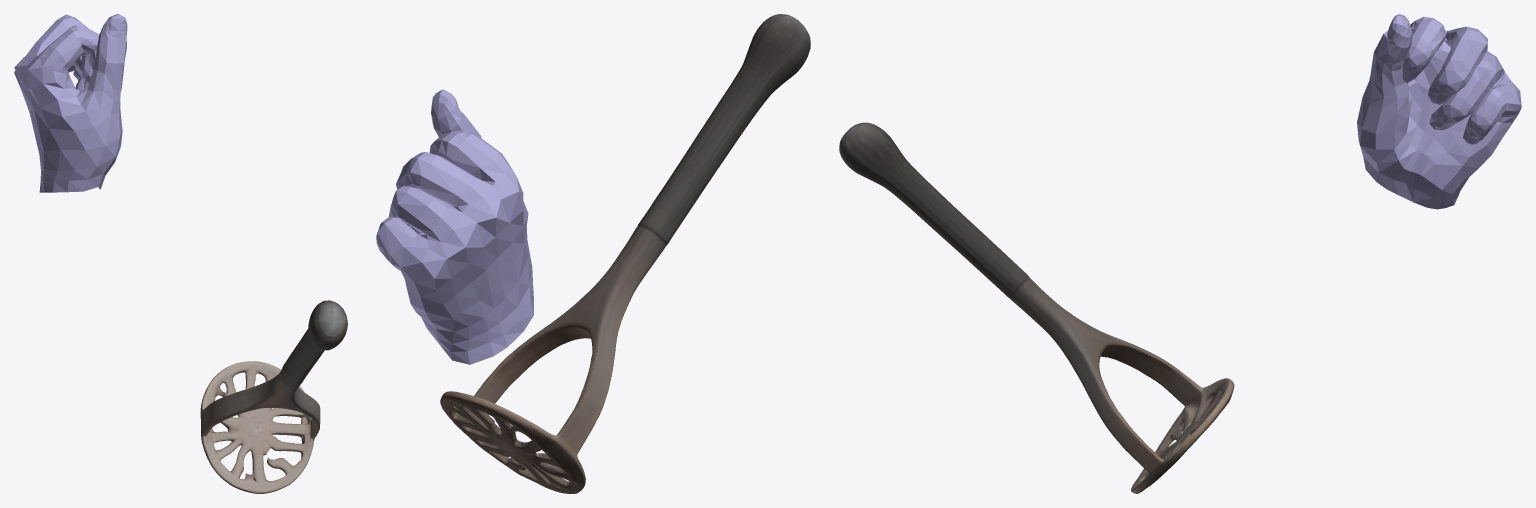
File: frame_0036_source_000036_hand_object.glb
The picture shows the model from 3 angles, left to right: view 1: azimuth 30°, elevation 25°; view 2: azimuth 150°, elevation 25°; view 3: azimuth 270°, elevation 25°; orthographic projection. The views are drawn at different scales.
Parts seen in each view (by area): view 1: world; view 2: world; view 3: world.
Boxes of the visible parts, x1,y1,x2,y2 form: world: (14,14,347,493); world: (376,14,810,493); world: (839,14,1521,493).
Bounding box in the file's own units: 0.12 × 0.2739 × 0.3739.
